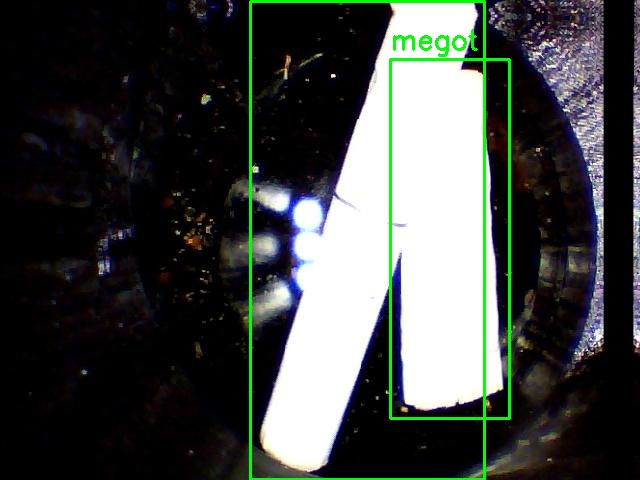megot: (250, 1, 484, 479), (390, 59, 509, 418)
